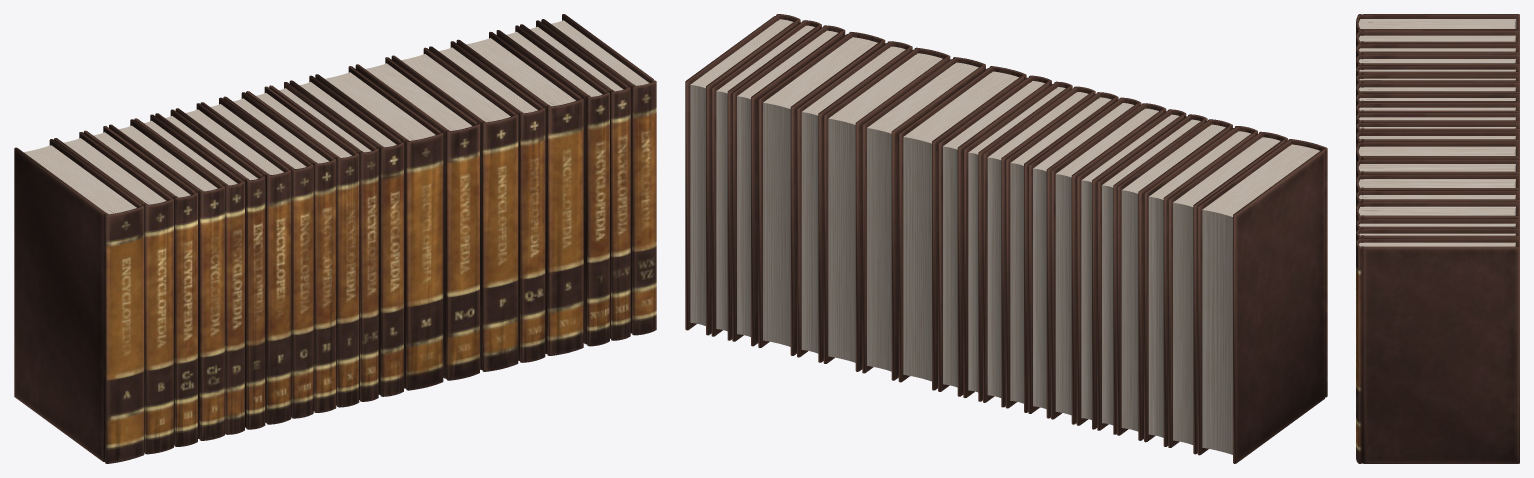
The model's file is books_set.glb.
The picture shows the model from 3 angles, left to right: view 1: azimuth 30°, elevation 25°; view 2: azimuth 150°, elevation 25°; view 3: azimuth 270°, elevation 25°; orthographic projection. The views are drawn at different scales.
Visible parts, largest first — view 1: book_encyclopedia_set_01_book01, book_encyclopedia_set_01_book13, book_encyclopedia_set_01_book15, book_encyclopedia_set_01_book17, book_encyclopedia_set_01_book14, book_encyclopedia_set_01_book02, book_encyclopedia_set_01_book16, book_encyclopedia_set_01_book04, book_encyclopedia_set_01_book18, book_encyclopedia_set_01_book20, book_encyclopedia_set_01_book07, book_encyclopedia_set_01_book12 (+8 smaller); view 2: book_encyclopedia_set_01_book01, book_encyclopedia_set_01_book13, book_encyclopedia_set_01_book15, book_encyclopedia_set_01_book17, book_encyclopedia_set_01_book14, book_encyclopedia_set_01_book02, book_encyclopedia_set_01_book04, book_encyclopedia_set_01_book16, book_encyclopedia_set_01_book18, book_encyclopedia_set_01_book20, book_encyclopedia_set_01_book07, book_encyclopedia_set_01_book12 (+8 smaller); view 3: book_encyclopedia_set_01_book20, book_encyclopedia_set_01_book13, book_encyclopedia_set_01_book01, book_encyclopedia_set_01_book17, book_encyclopedia_set_01_book15, book_encyclopedia_set_01_book14, book_encyclopedia_set_01_book02, book_encyclopedia_set_01_book16, book_encyclopedia_set_01_book03, book_encyclopedia_set_01_book12, book_encyclopedia_set_01_book04, book_encyclopedia_set_01_book07 (+8 smaller).
Boxes of the visible parts, box(x1,y1,x2,y2) form: book_encyclopedia_set_01_book01: box(14, 139, 144, 463); book_encyclopedia_set_01_book13: box(315, 66, 443, 390); book_encyclopedia_set_01_book15: box(391, 47, 518, 371); book_encyclopedia_set_01_book17: box(456, 31, 583, 355); book_encyclopedia_set_01_book14: box(355, 57, 479, 380); book_encyclopedia_set_01_book02: box(54, 132, 173, 454); book_encyclopedia_set_01_book16: box(429, 41, 545, 362); book_encyclopedia_set_01_book04: box(109, 119, 224, 440); book_encyclopedia_set_01_book18: box(496, 25, 609, 346); book_encyclopedia_set_01_book20: box(541, 14, 656, 335); book_encyclopedia_set_01_book07: box(175, 103, 291, 424); book_encyclopedia_set_01_book12: box(289, 75, 403, 396); book_encyclopedia_set_01_book01: box(1197, 139, 1327, 463); book_encyclopedia_set_01_book13: box(898, 66, 1026, 390); book_encyclopedia_set_01_book15: box(823, 47, 950, 371); book_encyclopedia_set_01_book17: box(758, 32, 885, 355); book_encyclopedia_set_01_book14: box(862, 57, 985, 380); book_encyclopedia_set_01_book02: box(1168, 131, 1287, 454); book_encyclopedia_set_01_book04: box(1117, 119, 1232, 440); book_encyclopedia_set_01_book16: box(797, 41, 912, 362); book_encyclopedia_set_01_book18: box(732, 25, 845, 346); book_encyclopedia_set_01_book20: box(685, 14, 800, 335); book_encyclopedia_set_01_book07: box(1051, 103, 1166, 424); book_encyclopedia_set_01_book12: box(938, 75, 1051, 396); book_encyclopedia_set_01_book20: box(1356, 238, 1519, 463); book_encyclopedia_set_01_book13: box(1356, 142, 1519, 165); book_encyclopedia_set_01_book01: box(1356, 14, 1519, 35); book_encyclopedia_set_01_book17: box(1356, 202, 1519, 221); book_encyclopedia_set_01_book15: box(1356, 174, 1519, 194); book_encyclopedia_set_01_book14: box(1356, 159, 1519, 180); book_encyclopedia_set_01_book02: box(1356, 30, 1519, 47); book_encyclopedia_set_01_book16: box(1356, 190, 1519, 222); book_encyclopedia_set_01_book03: box(1356, 43, 1519, 58); book_encyclopedia_set_01_book12: box(1356, 131, 1519, 149); book_encyclopedia_set_01_book04: box(1356, 54, 1519, 70); book_encyclopedia_set_01_book07: box(1356, 82, 1519, 96).
Bounding box in the file's own units: 0.55 × 0.2369 × 0.1627.
2 materials, 2 textured.
